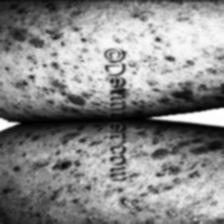Non-Cancerous Skin Condition: (0, 0, 100, 224), (129, 0, 224, 100), (136, 136, 224, 224)
